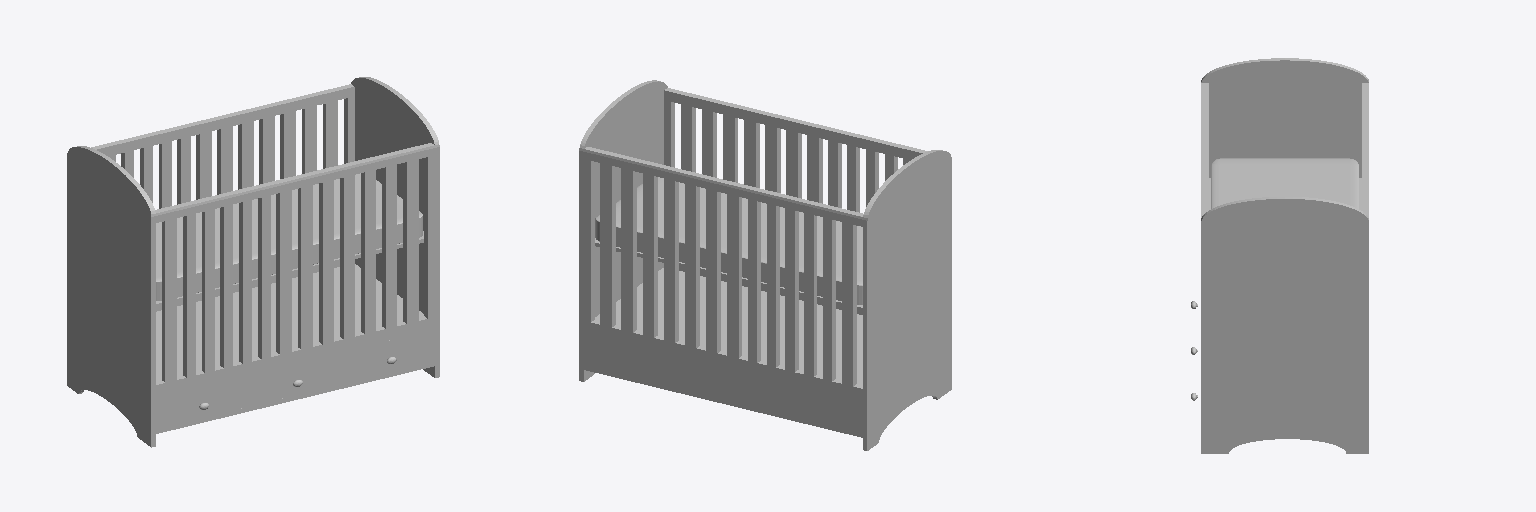
The model's file is Cots_Gonnat.obj.
The picture shows the model from 3 angles: view 1: azimuth 30°, elevation 25°; view 2: azimuth 150°, elevation 25°; view 3: azimuth 270°, elevation 25°; orthographic projection.
Visible parts, largest first — view 1: obj_0; view 2: obj_0; view 3: obj_0.
Boxes of the visible parts, <box> form: obj_0: <box>67,77,439,447</box>; obj_0: <box>579,80,951,450</box>; obj_0: <box>1191,58,1368,453</box>.
Bounding box in the file's own units: 123 × 104 × 66.